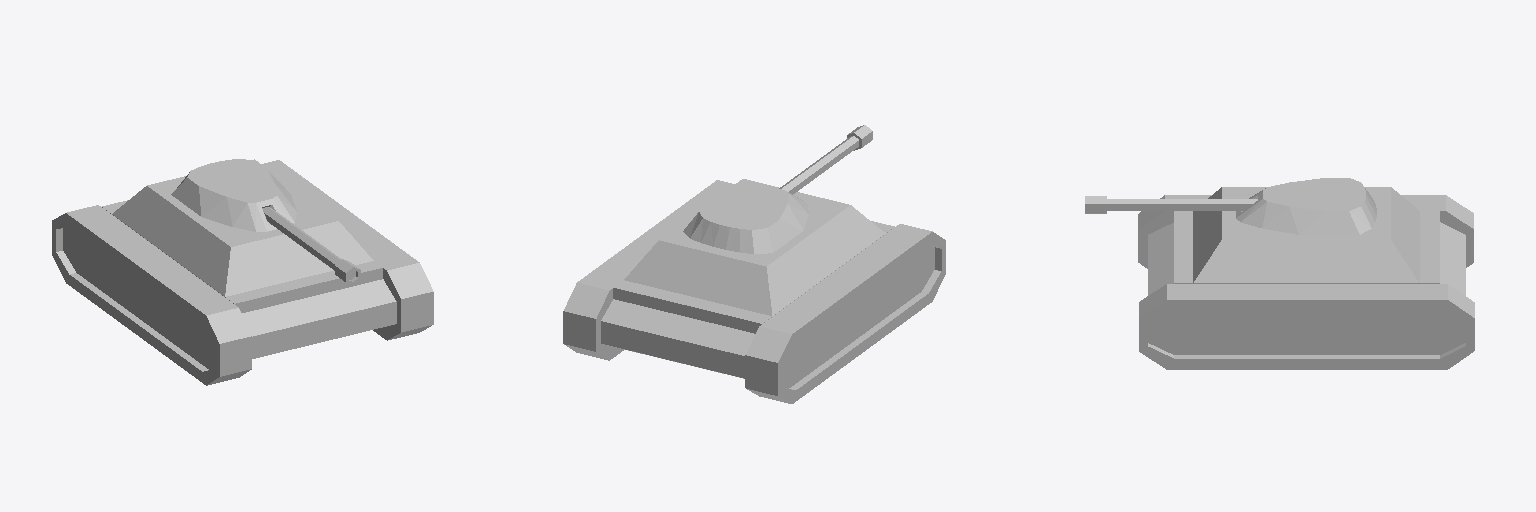
File: tank.obj
The picture shows the model from 3 angles: view 1: azimuth 30°, elevation 25°; view 2: azimuth 150°, elevation 25°; view 3: azimuth 270°, elevation 25°; orthographic projection.
Visible parts, largest first — view 1: Cube_Cube.001, Cube.002_Cube.005, Cube.003_Cube.006, Cube.001_Cube.003, Cube.004_Cube.007; view 2: Cube_Cube.001, Cube.002_Cube.005, Cube.003_Cube.006, Cube.001_Cube.003, Cube.004_Cube.007; view 3: Cube.001_Cube.003, Cube_Cube.001, Cube.003_Cube.006, Cube.002_Cube.005, Cube.004_Cube.007.
Boxes of the visible parts, box(x1,y1,x2,y2) form: Cube_Cube.001: box(102, 159, 396, 358); Cube.002_Cube.005: box(52, 205, 251, 385); Cube.003_Cube.006: box(171, 159, 296, 231); Cube.001_Cube.003: box(262, 160, 433, 340); Cube.004_Cube.007: box(263, 207, 360, 284); Cube_Cube.001: box(601, 179, 894, 378); Cube.002_Cube.005: box(745, 224, 945, 403); Cube.003_Cube.006: box(683, 186, 808, 253); Cube.001_Cube.003: box(563, 180, 734, 360); Cube.004_Cube.007: box(779, 125, 872, 194); Cube.001_Cube.003: box(1139, 284, 1474, 369); Cube_Cube.001: box(1148, 187, 1465, 295); Cube.003_Cube.006: box(1236, 178, 1376, 234); Cube.002_Cube.005: box(1138, 195, 1473, 268); Cube.004_Cube.007: box(1085, 196, 1257, 213).
Bounding box in the file's own units: 2.19 × 1.2 × 3.44.